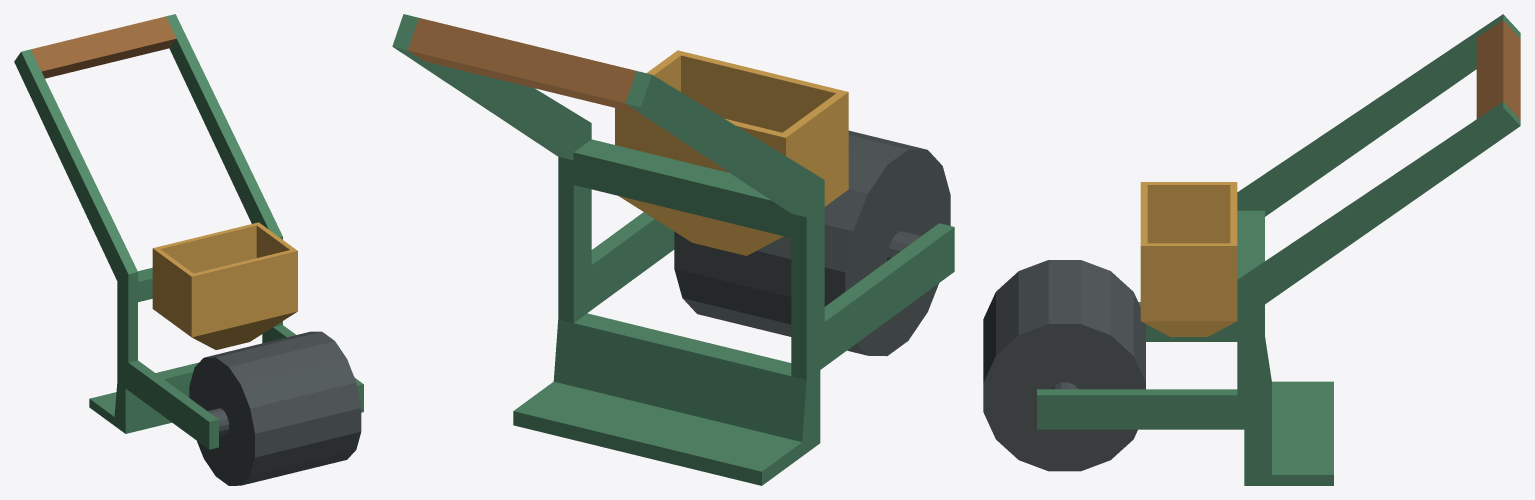
3 views of the same model, side by side, from view 1: azimuth 30°, elevation 25°; view 2: azimuth 150°, elevation 25°; view 3: azimuth 270°, elevation 25° (orthographic). The views are drawn at different scales.
Parts seen in each view (by area): view 1: WideDrumWithIntegralAxialHubs, ContinuousOpenSeedHopper, LeftContinuousRisingFrame, RightContinuousRisingFrame, WoodenCrossGrip, CompleteParkingSupport, RearHopperBearingCrossbar; view 2: CompleteParkingSupport, WideDrumWithIntegralAxialHubs, LeftContinuousRisingFrame, ContinuousOpenSeedHopper, RightContinuousRisingFrame, RearHopperBearingCrossbar, WoodenCrossGrip; view 3: WideDrumWithIntegralAxialHubs, RightContinuousRisingFrame, ContinuousOpenSeedHopper, LeftContinuousRisingFrame, CompleteParkingSupport, WoodenCrossGrip, RearHopperBearingCrossbar.
Boxes of the visible parts, x1,y1,x2,y2 form: WideDrumWithIntegralAxialHubs: (189, 331, 361, 485); ContinuousOpenSeedHopper: (152, 222, 297, 349); LeftContinuousRisingFrame: (14, 49, 218, 449); RightContinuousRisingFrame: (166, 14, 363, 412); WoodenCrossGrip: (31, 16, 176, 78); CompleteParkingSupport: (89, 362, 198, 433); RearHopperBearingCrossbar: (138, 267, 152, 302); CompleteParkingSupport: (513, 313, 820, 485); WideDrumWithIntegralAxialHubs: (674, 130, 950, 356); LeftContinuousRisingFrame: (625, 71, 954, 379); ContinuousOpenSeedHopper: (615, 50, 848, 255); RightContinuousRisingFrame: (392, 14, 674, 322); RearHopperBearingCrossbar: (573, 139, 791, 237); WoodenCrossGrip: (408, 18, 640, 113); WideDrumWithIntegralAxialHubs: (983, 260, 1145, 471); RightContinuousRisingFrame: (1037, 101, 1520, 429); ContinuousOpenSeedHopper: (1140, 182, 1237, 336); LeftContinuousRisingFrame: (1138, 14, 1520, 341); CompleteParkingSupport: (1244, 337, 1333, 485); WoodenCrossGrip: (1476, 20, 1520, 119); RearHopperBearingCrossbar: (1237, 210, 1264, 279).
Size of the model in its own units: 0.64 by 1.21 by 1.56.
